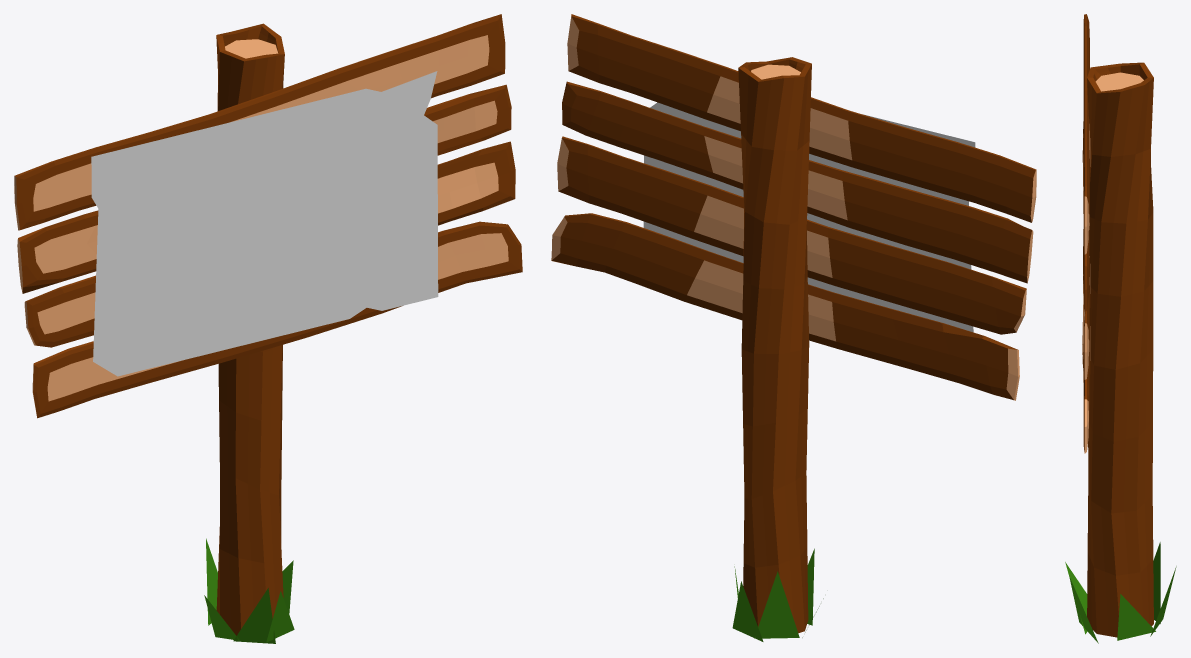
The model's file is signpost.glb.
3 views of the same model, side by side, from view 1: azimuth 30°, elevation 25°; view 2: azimuth 150°, elevation 25°; view 3: azimuth 270°, elevation 25° (orthographic). The views are drawn at different scales.
Parts seen in each view (by area): view 1: Cylinder; view 2: Cylinder; view 3: Cylinder.
Part boxes in pixels (x1,y1,x2,y2): Cylinder: [14, 14, 522, 643]; Cylinder: [551, 14, 1036, 641]; Cylinder: [1065, 14, 1176, 643].
Bounding box in the file's own units: 0.8245 × 0.9235 × 0.1671.
